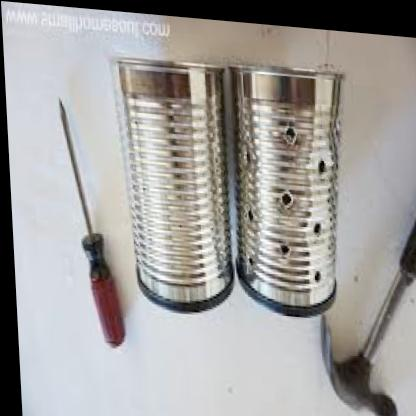Metal: (117, 46, 356, 342)
